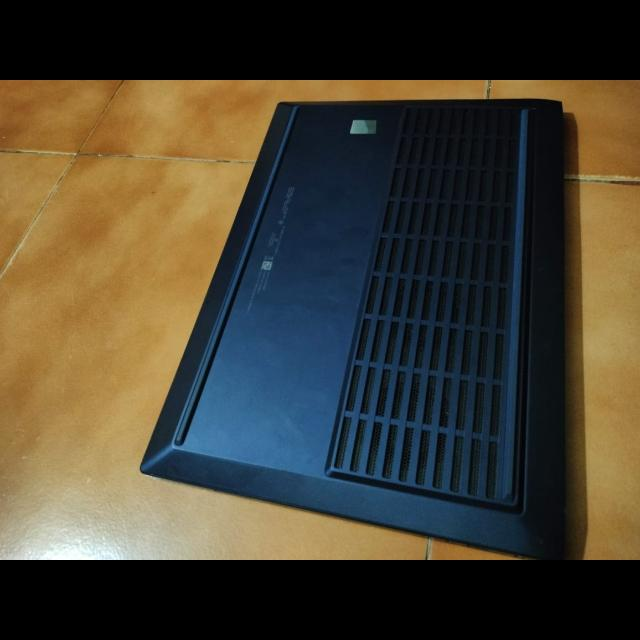laptop: (133, 84, 591, 552)
